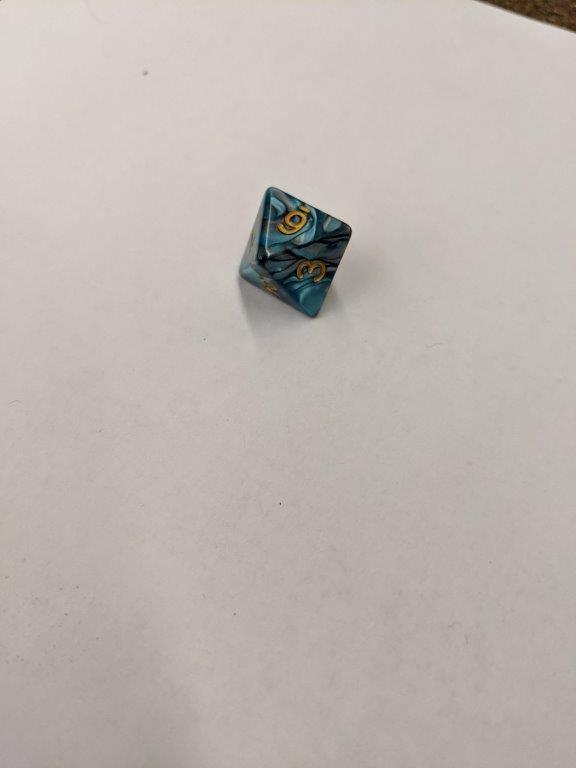d8-6: (237, 185, 352, 320)
